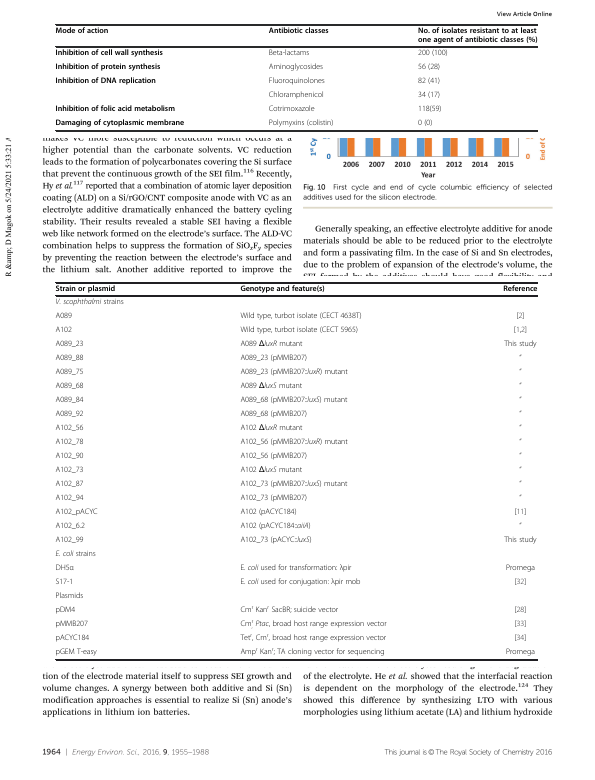borderless: (54, 281, 537, 659), (54, 23, 537, 130)
cell: (417, 27, 538, 45), (239, 618, 387, 630), (239, 632, 387, 644), (239, 646, 385, 658), (55, 119, 185, 129), (239, 312, 362, 322), (239, 578, 361, 588), (55, 105, 176, 115), (239, 326, 359, 336), (239, 604, 339, 616), (239, 564, 352, 574), (239, 368, 349, 378), (239, 438, 349, 448), (55, 49, 164, 59), (239, 396, 348, 406), (239, 480, 348, 490), (55, 63, 161, 73), (55, 77, 157, 87), (239, 285, 326, 294), (239, 536, 312, 546), (239, 522, 311, 532), (55, 298, 125, 308), (239, 354, 308, 364), (239, 410, 308, 420), (239, 452, 308, 462), (239, 494, 308, 504), (268, 119, 334, 129), (239, 340, 303, 350), (239, 382, 303, 392), (239, 424, 303, 434), (239, 466, 303, 476), (268, 77, 326, 87), (239, 508, 297, 518), (268, 63, 324, 73), (268, 91, 324, 101), (268, 27, 330, 36), (55, 285, 116, 294), (55, 27, 109, 36), (268, 105, 315, 115), (55, 508, 99, 518), (55, 648, 98, 658), (268, 49, 310, 59), (55, 550, 97, 560), (55, 634, 90, 644), (503, 340, 537, 350), (503, 536, 537, 546), (55, 620, 89, 630), (502, 285, 538, 294), (417, 49, 448, 59), (55, 522, 86, 532), (505, 564, 536, 574), (505, 648, 536, 658), (55, 340, 84, 350), (55, 354, 84, 364), (55, 368, 84, 378), (55, 382, 84, 392), (55, 396, 84, 406), (55, 410, 84, 420), (55, 424, 84, 434), (55, 438, 84, 448), (55, 452, 84, 462), (55, 466, 84, 476), (55, 480, 84, 490), (55, 494, 84, 504), (55, 536, 84, 546), (55, 592, 84, 602), (417, 105, 442, 115), (417, 63, 441, 73), (417, 77, 441, 87), (417, 91, 441, 101), (55, 606, 76, 616), (55, 564, 75, 574), (55, 578, 74, 588), (55, 312, 73, 322), (55, 326, 73, 336), (417, 119, 433, 129), (513, 326, 528, 336), (513, 508, 527, 518), (513, 578, 527, 588), (513, 606, 527, 616), (513, 620, 527, 630), (513, 634, 527, 644), (515, 312, 525, 322), (518, 354, 522, 362), (518, 368, 522, 376), (518, 382, 522, 390), (518, 396, 522, 404), (518, 410, 522, 418), (518, 424, 522, 432), (518, 438, 522, 446), (518, 452, 522, 460), (518, 466, 522, 474), (518, 480, 522, 488), (518, 494, 522, 502), (518, 522, 522, 530)
